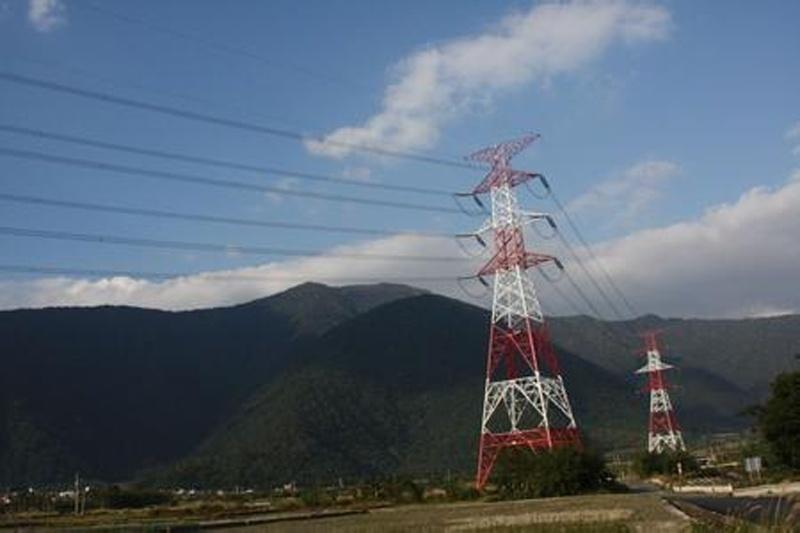power_tower: (450, 132, 593, 490), (629, 320, 688, 473)
